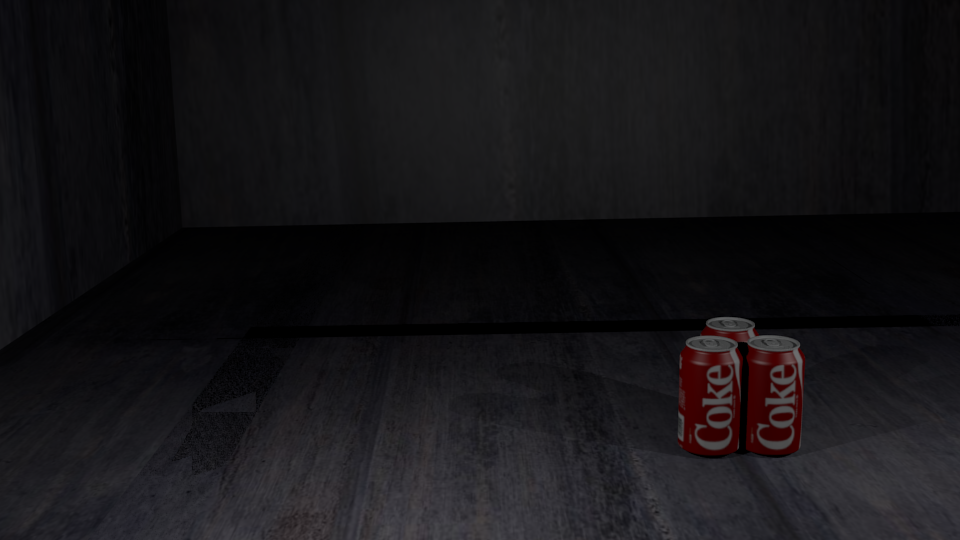cola_can: (679, 336, 742, 452), (741, 336, 804, 451), (701, 317, 759, 427)
